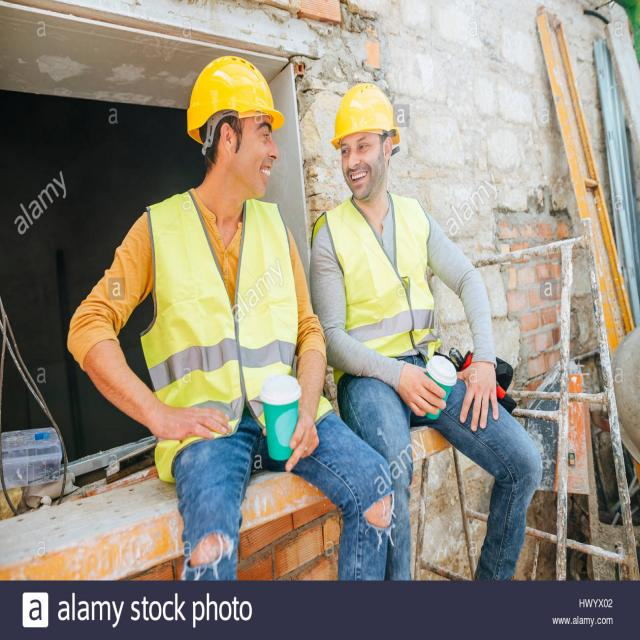Reflective-Jacket: (136, 190, 322, 458), (315, 193, 445, 369)
Safety-Helmet: (185, 50, 288, 139), (329, 78, 402, 144)
